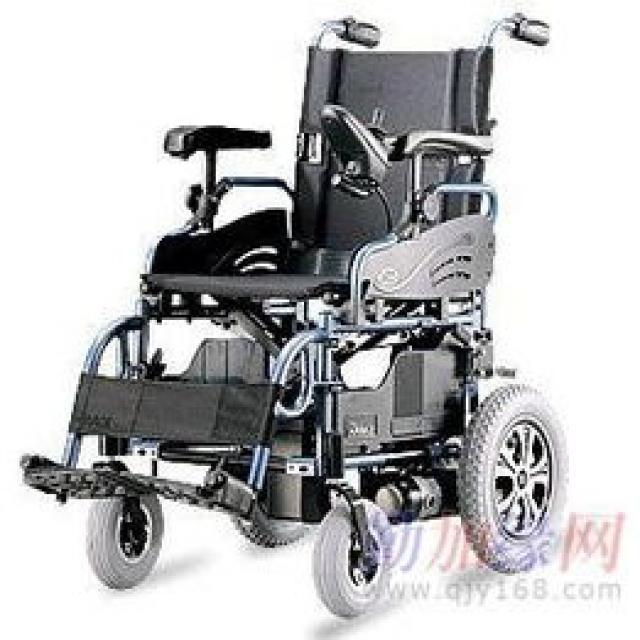wheelchair: (26, 8, 572, 602)
